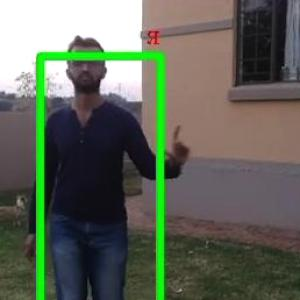land_hand: (155, 122, 194, 171)
